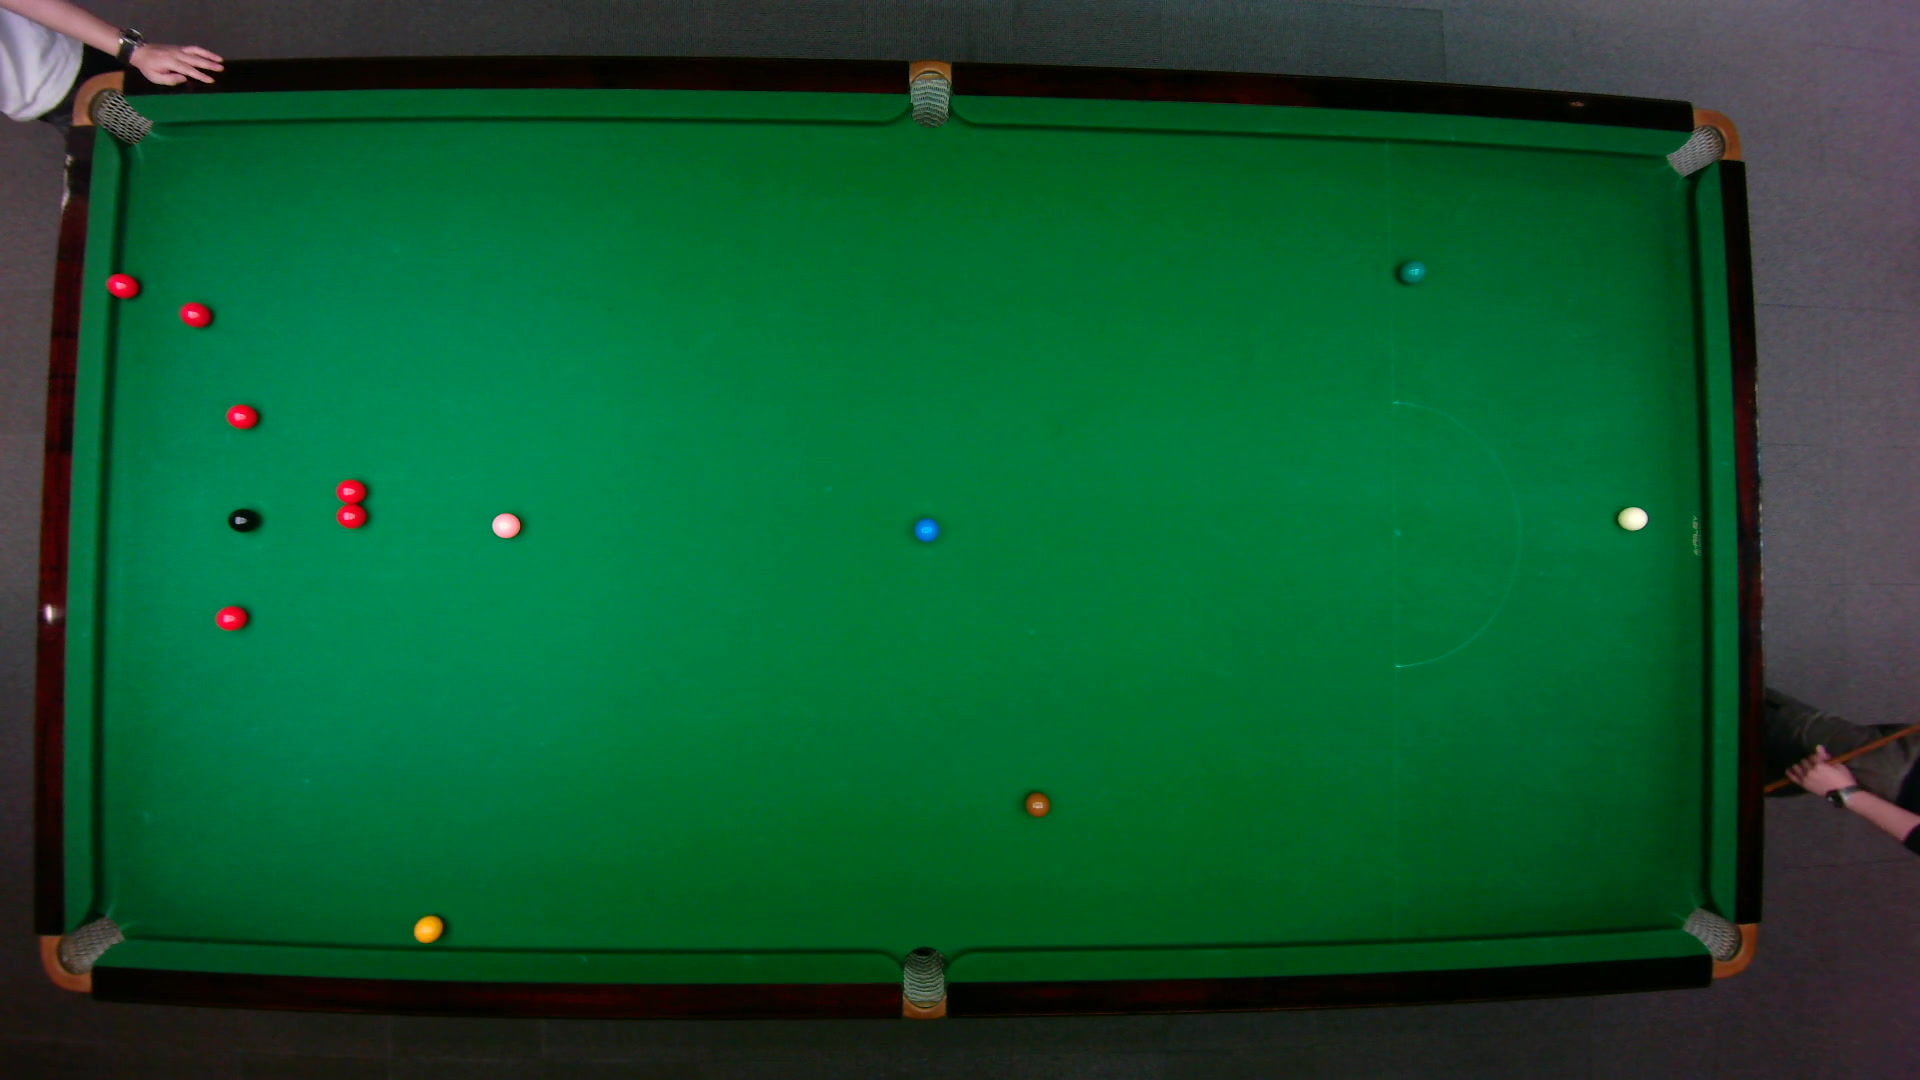bag: (38, 914, 127, 992), (69, 69, 154, 146), (1677, 905, 1756, 978), (1663, 107, 1741, 178), (901, 944, 944, 1021), (909, 57, 949, 128)
black: (224, 506, 258, 531)
blue: (913, 516, 938, 542)
brown: (1022, 790, 1050, 818)
green: (1396, 258, 1425, 284)
pink: (489, 510, 520, 539)
red: (103, 270, 138, 299), (212, 603, 248, 632), (177, 299, 212, 328), (223, 401, 258, 429), (332, 476, 368, 504), (334, 502, 367, 529)
white: (1615, 504, 1648, 530)
yellow: (411, 913, 444, 943)
zone: (1390, 400, 1520, 667)
